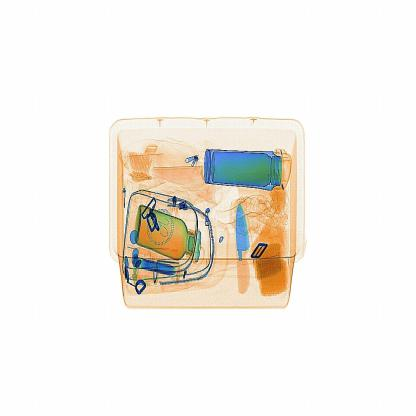wrench: (231, 198, 253, 297)
